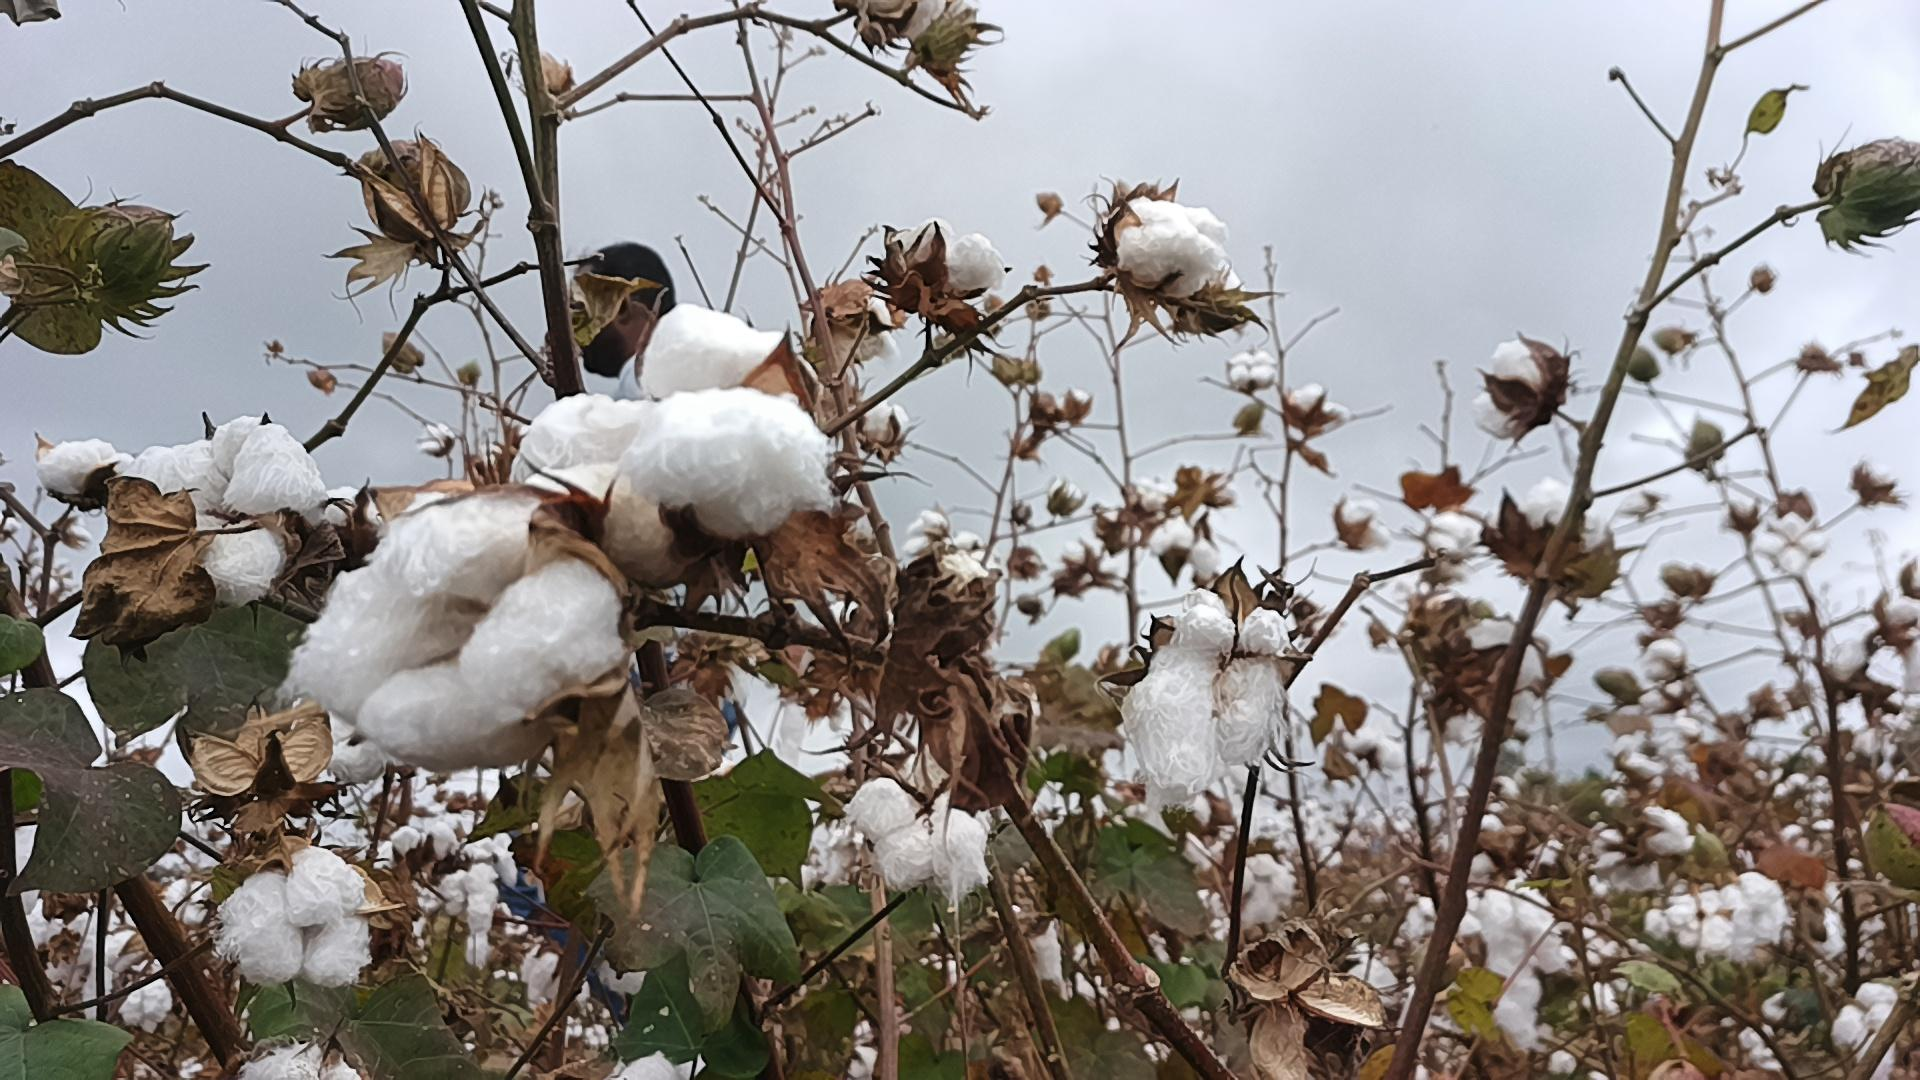cotton_ready: (287, 476, 625, 761), (516, 306, 843, 529), (121, 415, 320, 603), (1124, 613, 1295, 799), (218, 848, 371, 986), (853, 778, 988, 893), (1484, 884, 1565, 1051), (1448, 617, 1547, 736), (1112, 195, 1236, 287), (1469, 343, 1553, 436), (1510, 485, 1610, 559), (907, 223, 998, 289), (36, 440, 133, 501), (1724, 878, 1789, 952), (237, 1046, 368, 1080), (605, 1046, 700, 1080)
